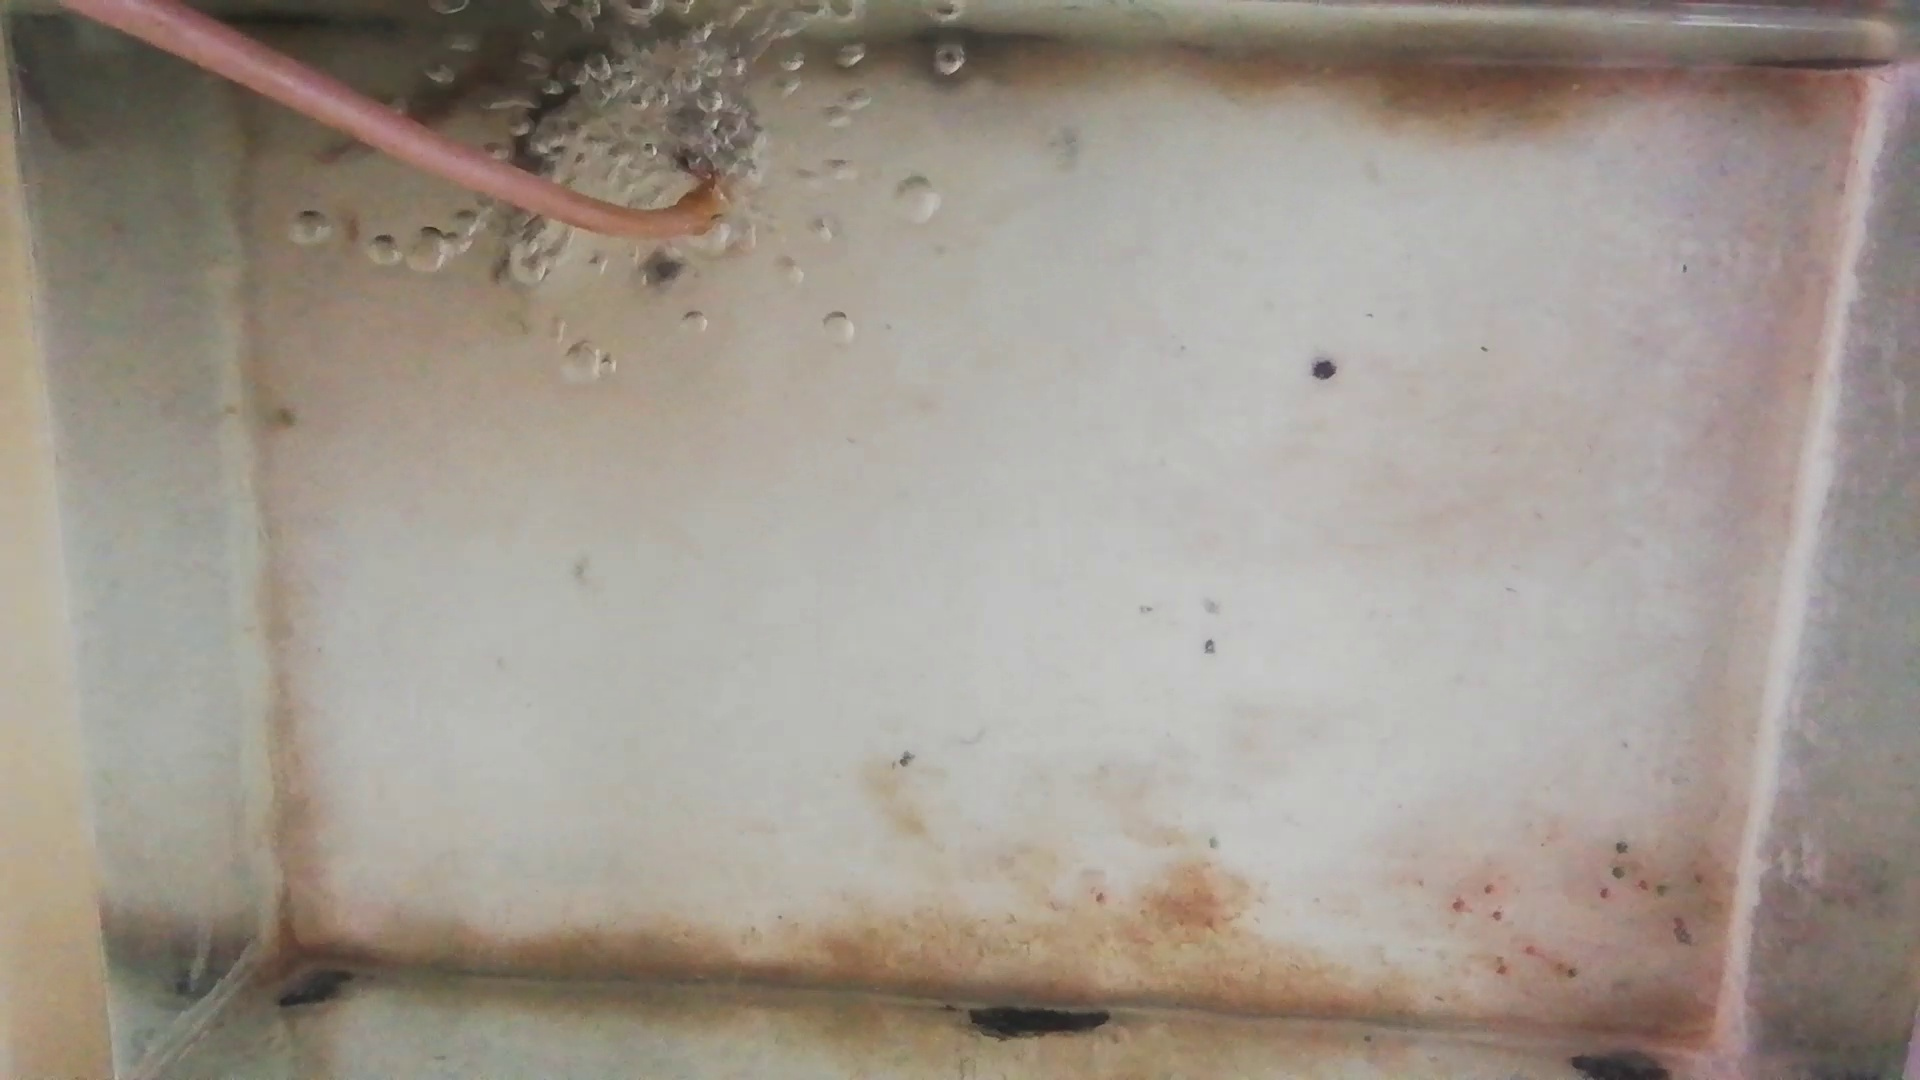fish: (514, 46, 589, 276), (378, 44, 524, 117)
